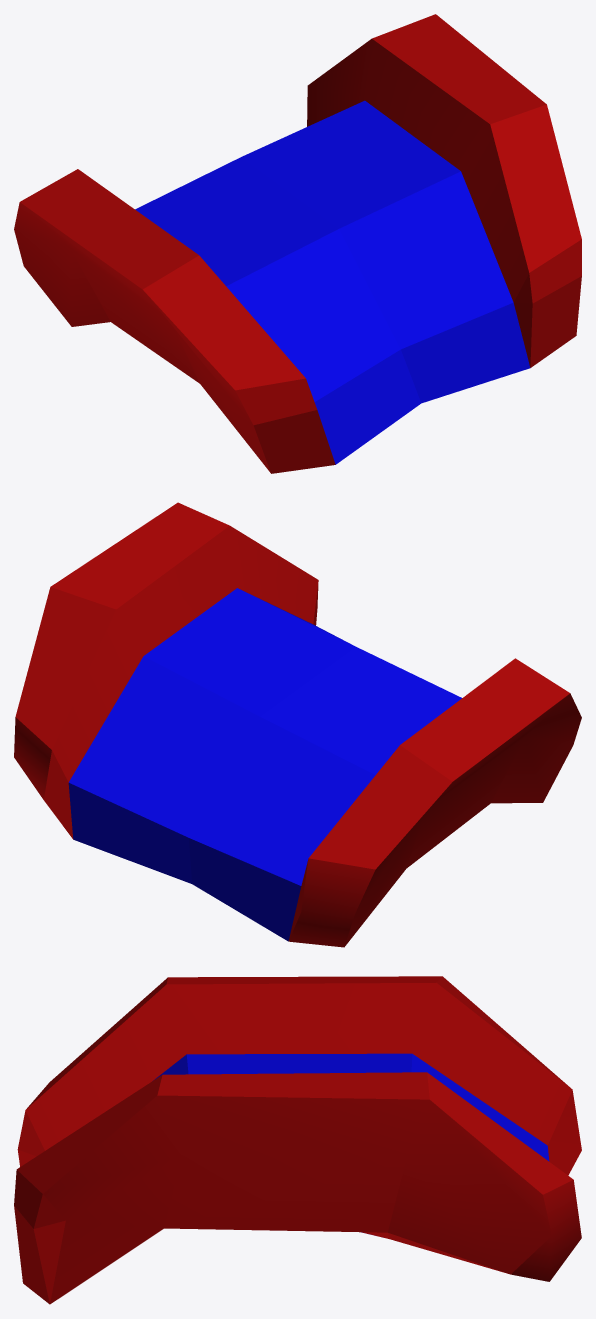
File: Chr_ShoulderAttachRight_Static_04.fbx
3 renders of one model, top to bottom at view 1: azimuth 30°, elevation 25°; view 2: azimuth 150°, elevation 25°; view 3: azimuth 270°, elevation 25°, orthographic. The views are drawn at different scales.
Visible parts, largest first — view 1: Chr_ShoulderAttachRight_04; view 2: Chr_ShoulderAttachRight_04; view 3: Chr_ShoulderAttachRight_04.
Boxes of the visible parts, x1,y1,x2,y2 form: Chr_ShoulderAttachRight_04: (14,14,581,473); Chr_ShoulderAttachRight_04: (14,502,581,947); Chr_ShoulderAttachRight_04: (14,976,581,1304).
Bounding box in the file's own units: 21.44 × 12.77 × 22.4.
